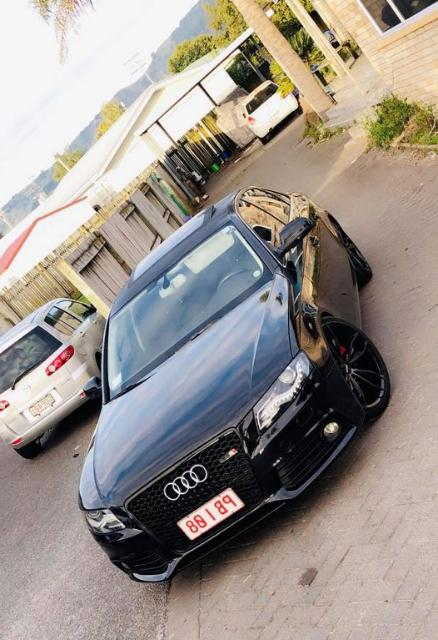Rego: (175, 488, 243, 539), (27, 391, 56, 418)
